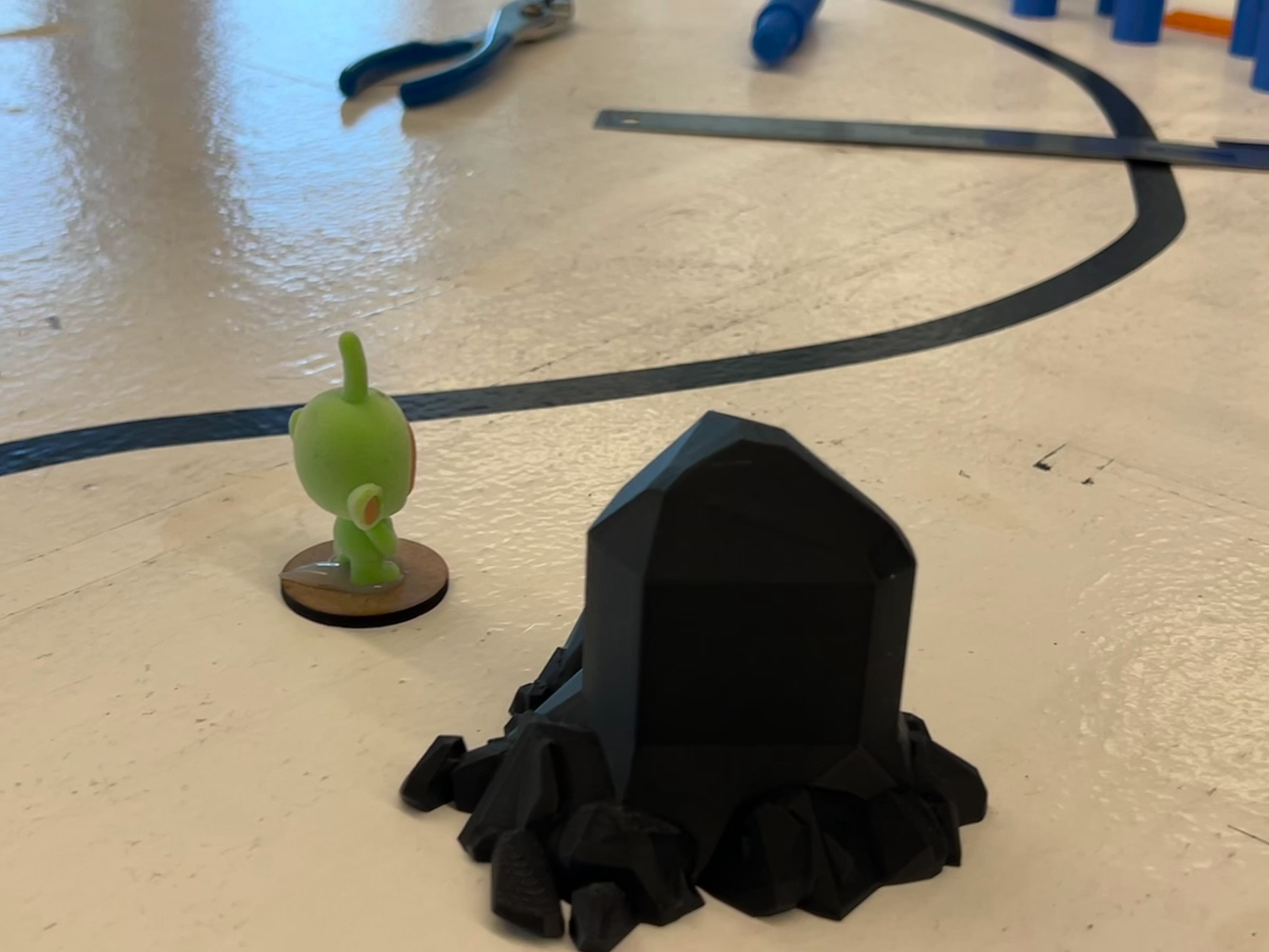teletubby: (289, 333, 416, 585)
